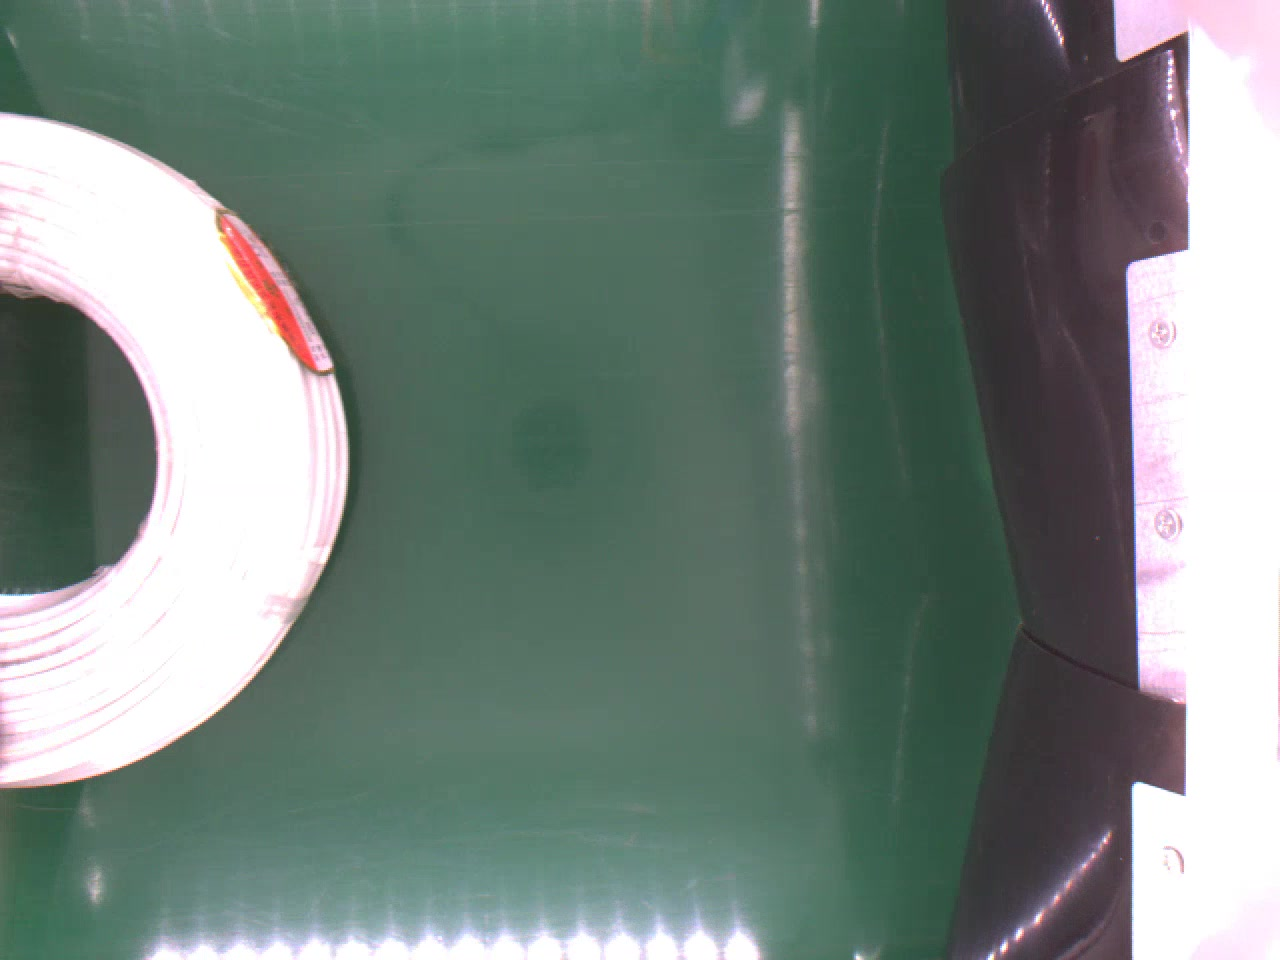white: (0, 112, 352, 801)
